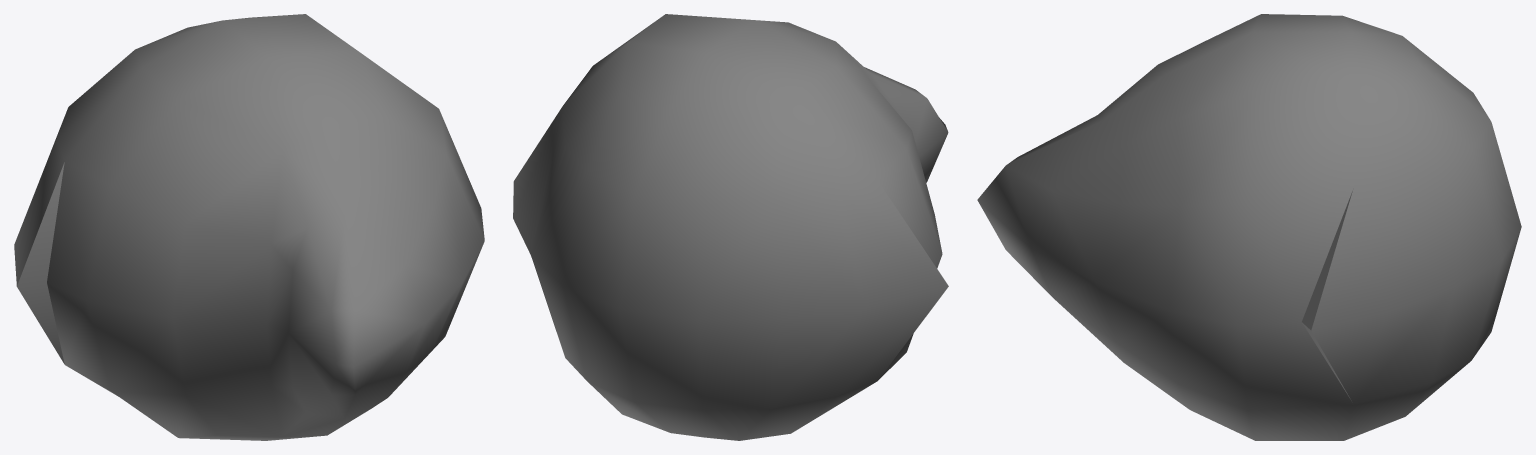
File: hero_116_fly.FBX
3 views of the same model, side by side, from view 1: azimuth 30°, elevation 25°; view 2: azimuth 150°, elevation 25°; view 3: azimuth 270°, elevation 25° (orthographic).
Parts seen in each view (by area): view 1: hero_116_fly; view 2: hero_116_fly; view 3: hero_116_fly.
Boxes of the visible parts, x1,y1,x2,y2 form: hero_116_fly: (14, 14, 484, 440); hero_116_fly: (513, 14, 948, 440); hero_116_fly: (977, 14, 1521, 440).
Bounding box in the file's own units: 50.49 × 42.7 × 54.45.
Materials: 1 (1 with a texture image).
